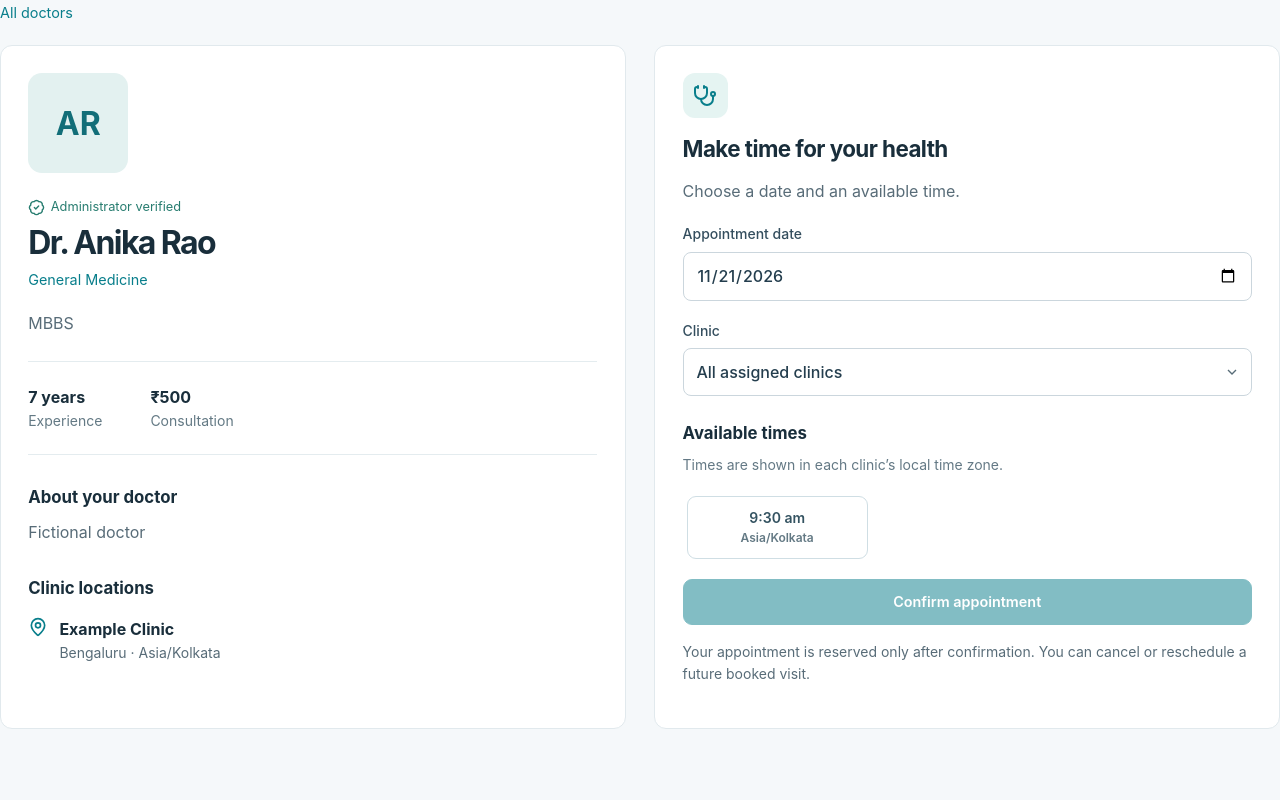
forms and real API integration boundaries › requires a slot and sends an idempotency key for booking
Check: the button "Confirm appointment" is disabled, box [683,579,1252,625]
Click the button "9:30 am Asia/Kolkata". click: (777, 527)
box: [687,496,868,559]
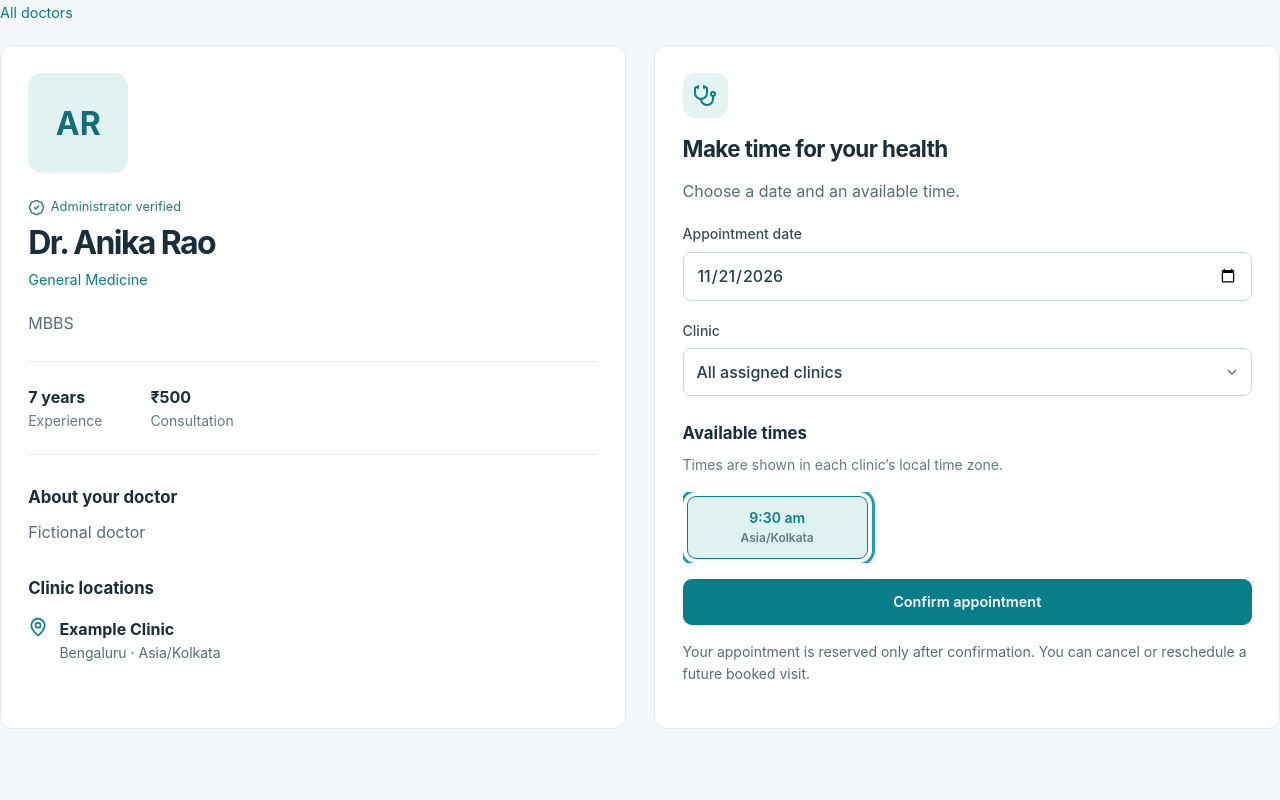
Click the button "Confirm appointment". click: (967, 602)
box: [683,579,1252,625]
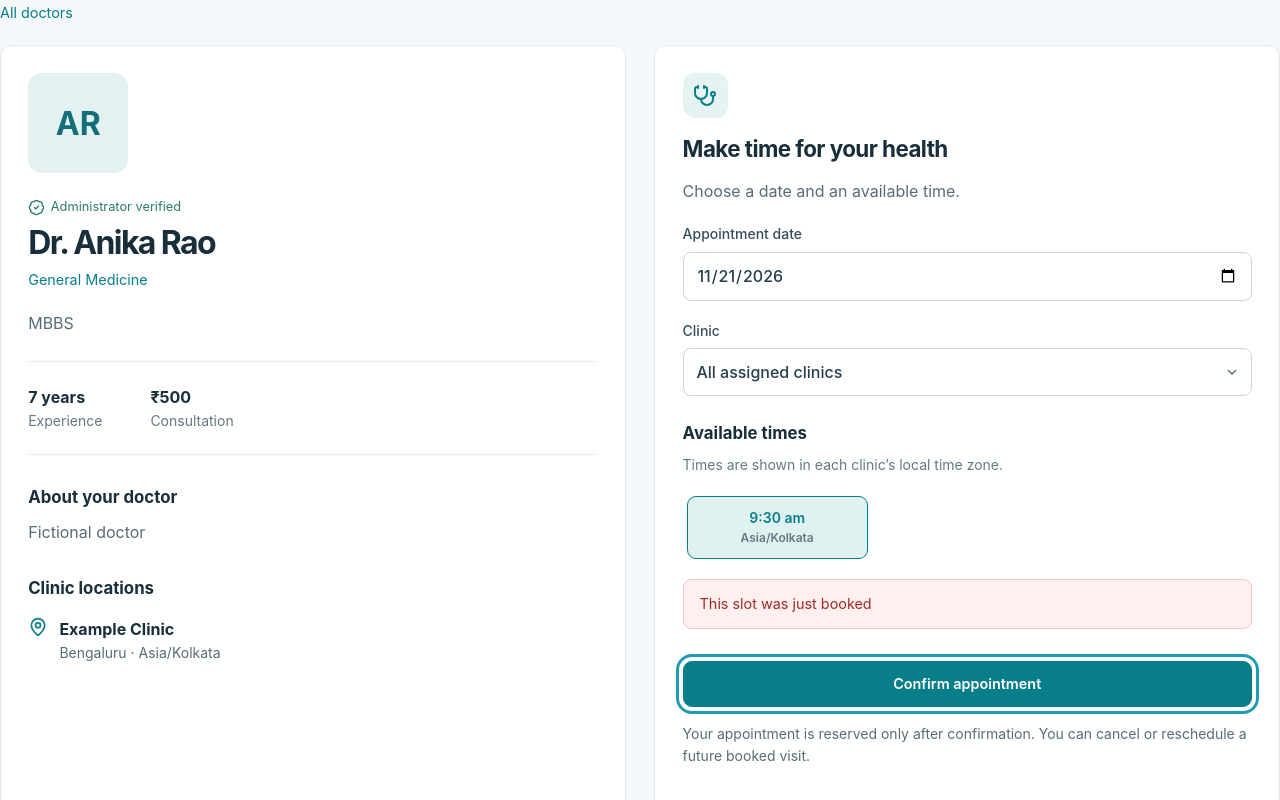
Check: the message reads "This slot was just booked", box [700,594,872,612]
